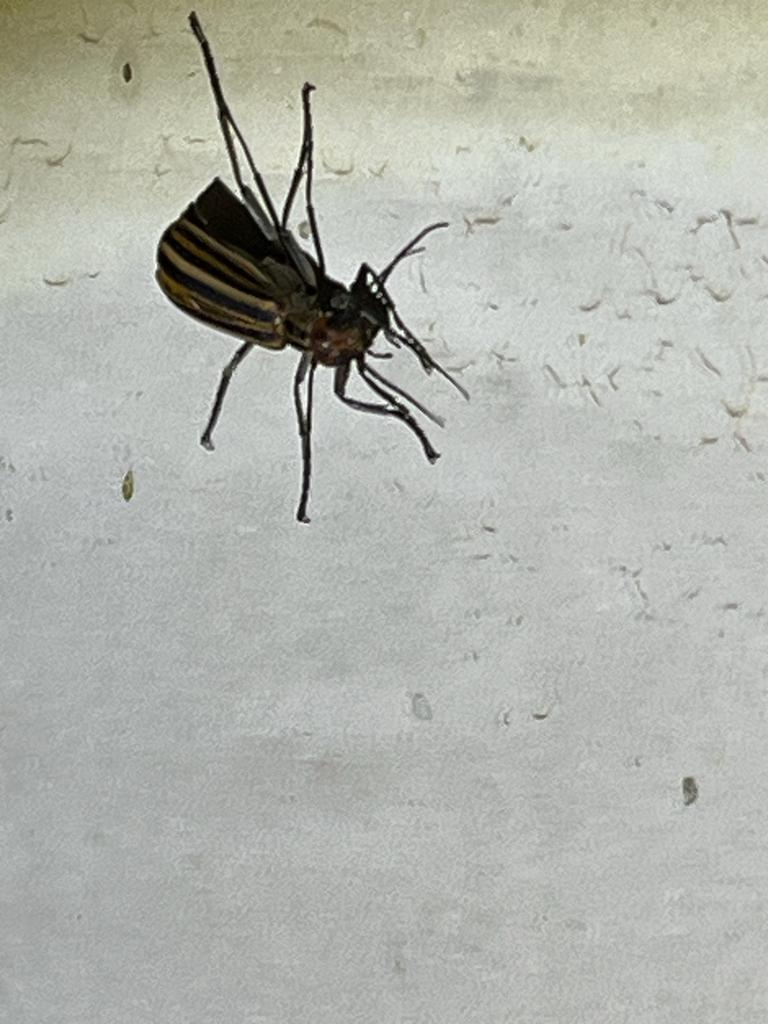blister_beetle: (65, 0, 565, 627)
